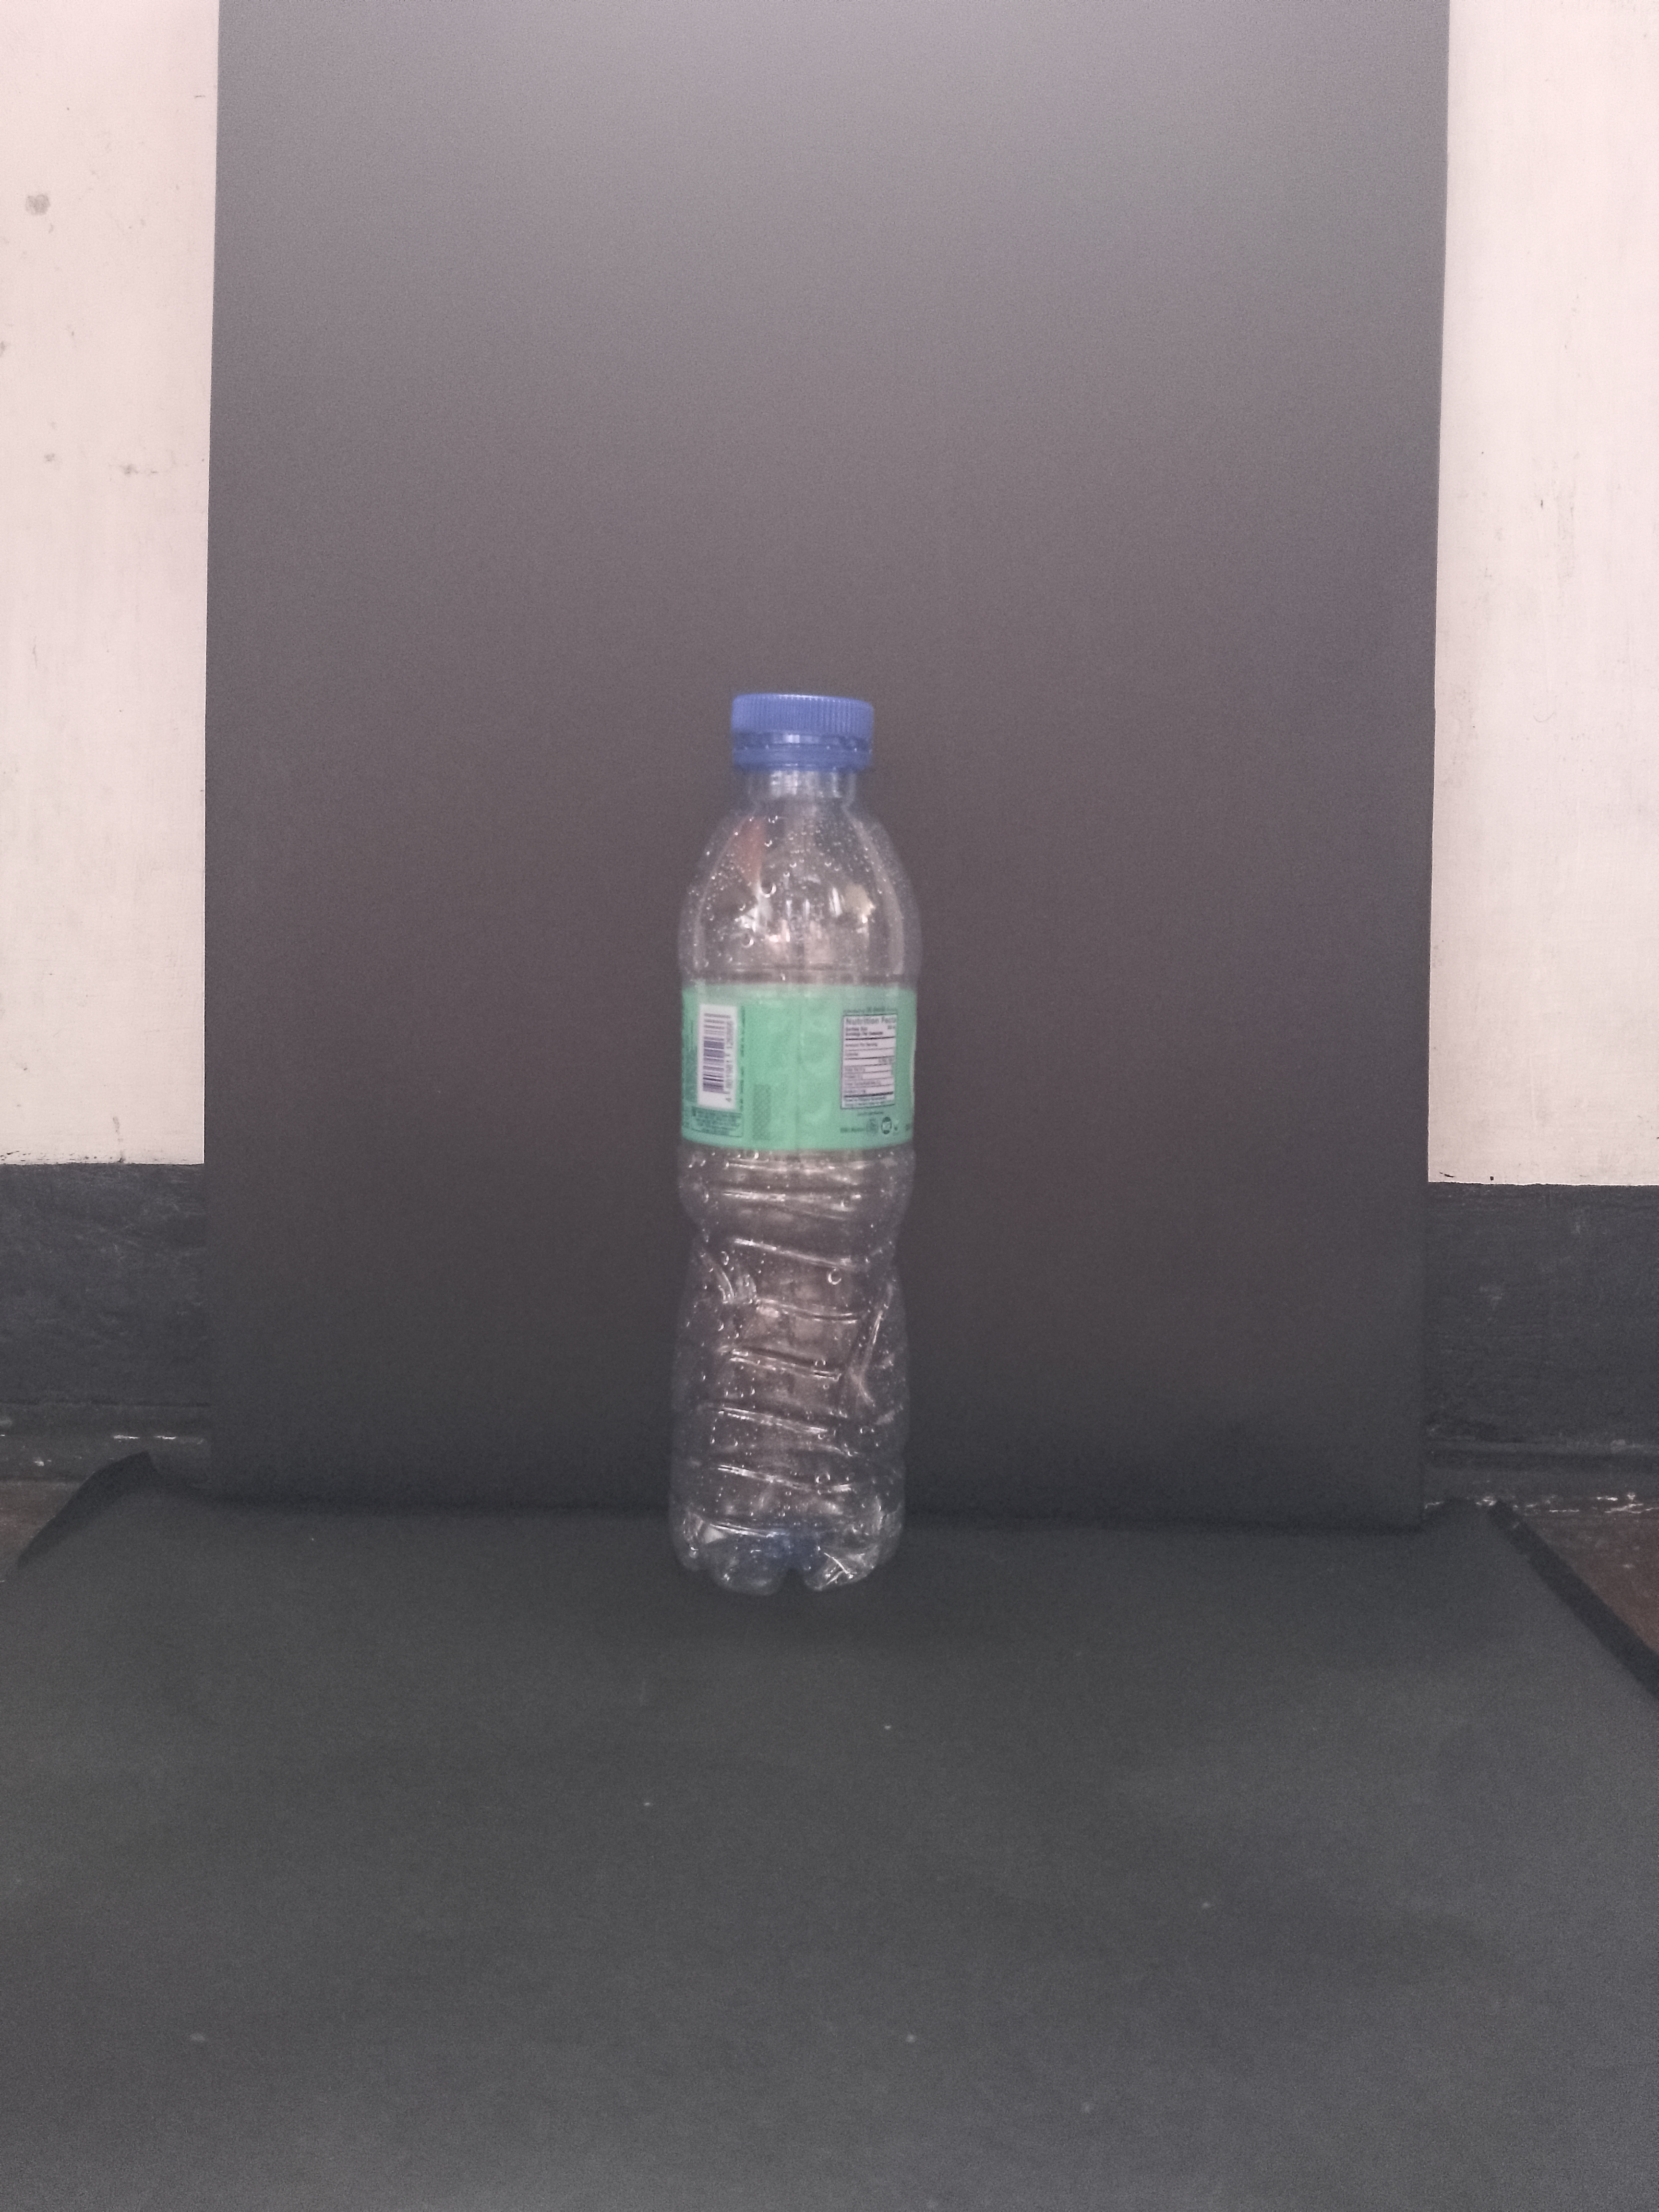plastic bottle: (659, 679, 931, 1609)
